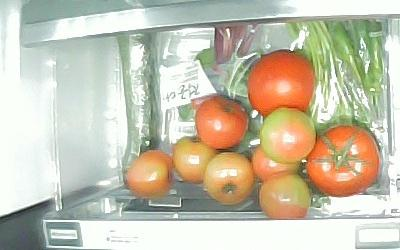tomato: (308, 123, 381, 197), (245, 50, 318, 117), (259, 108, 316, 164), (196, 96, 249, 150), (203, 151, 255, 205), (259, 170, 311, 219), (125, 149, 174, 198), (173, 135, 215, 184), (250, 144, 300, 182)
